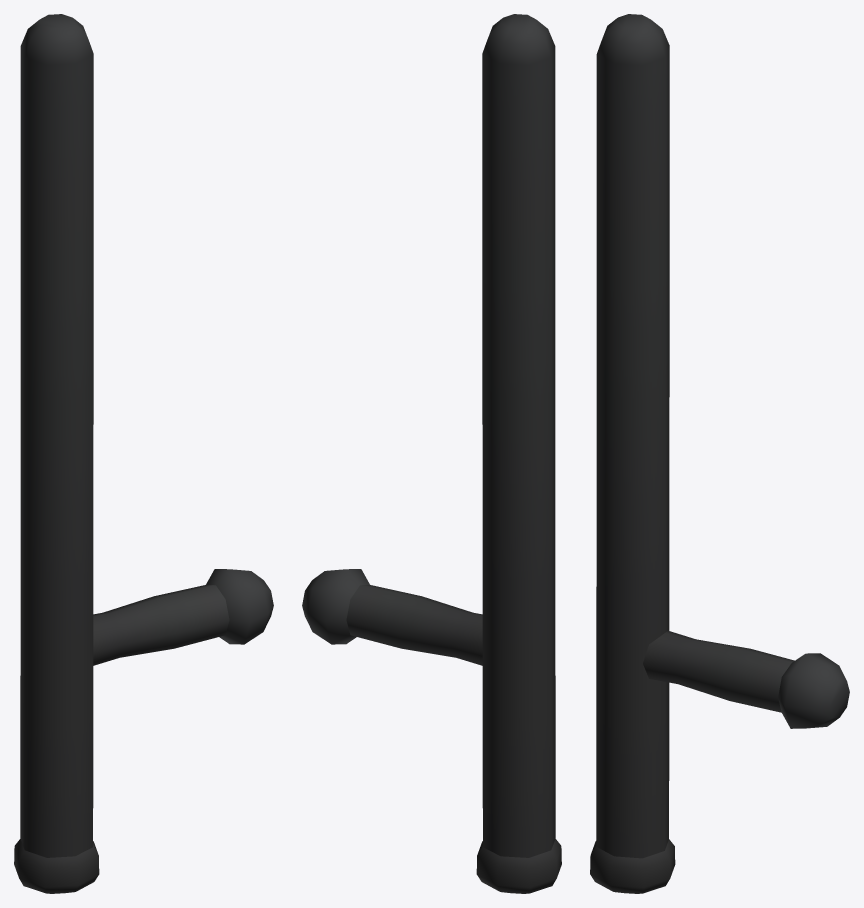
Rendered from Baton.fbx.
The picture shows the model from 3 angles, left to right: view 1: azimuth 30°, elevation 25°; view 2: azimuth 150°, elevation 25°; view 3: azimuth 330°, elevation 25°; orthographic projection.
Visible parts, largest first — view 1: Baton; view 2: Baton; view 3: Baton.
Boxes of the visible parts, x1,y1,x2,y2 form: Baton: (14, 14, 273, 893); Baton: (302, 14, 561, 893); Baton: (590, 14, 849, 893).
Bounding box in the file's own units: 25.58 × 7.85 × 86.43.
